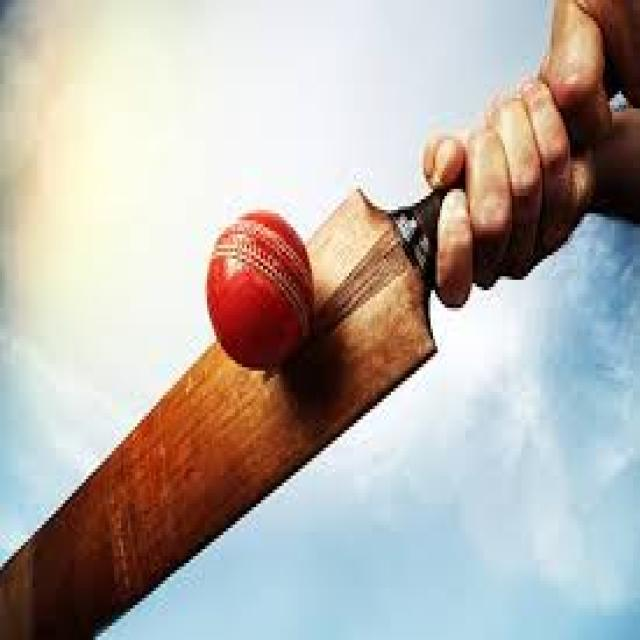ball: (200, 203, 317, 374)
